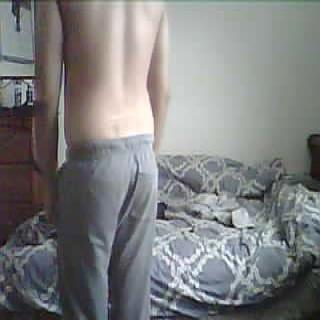Gray Sweatpants: (55, 141, 157, 320)
